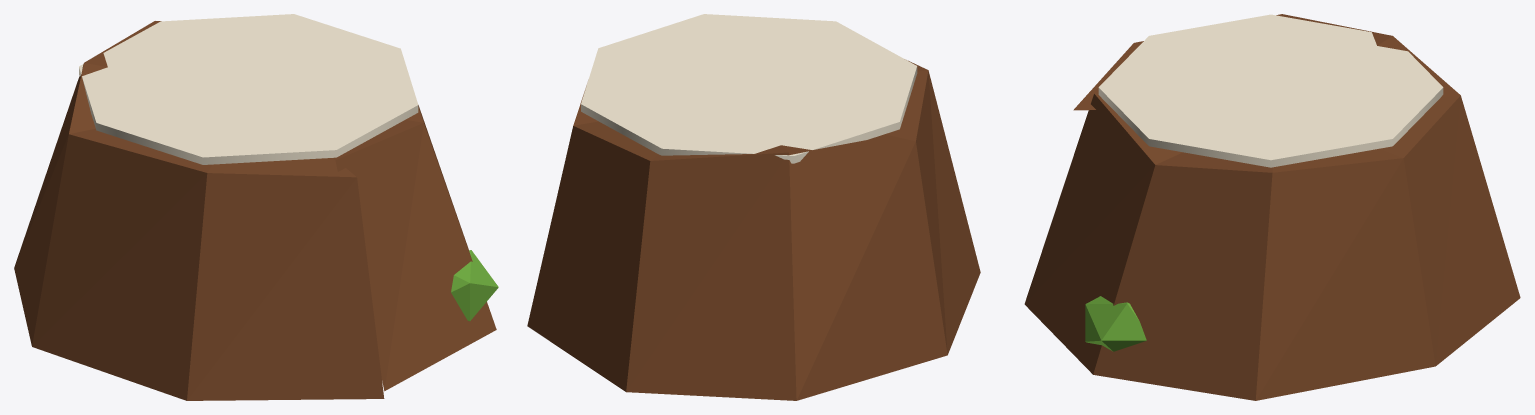
Rendered from tocon.glb.
The picture shows the model from 3 angles, left to right: view 1: azimuth 30°, elevation 25°; view 2: azimuth 150°, elevation 25°; view 3: azimuth 270°, elevation 25°; orthographic projection.
Parts seen in each view (by area): view 1: tronco, corte, musgo; view 2: tronco, corte; view 3: tronco, corte, musgo.
Boxes of the visible parts, box(x1,y1,x2,y2) form: tronco: box(14, 21, 496, 400); corte: box(79, 14, 418, 164); musgo: box(451, 250, 498, 321); tronco: box(527, 60, 980, 400); corte: box(581, 14, 917, 163); tronco: box(1024, 14, 1520, 400); corte: box(1098, 14, 1443, 167); musgo: box(1085, 296, 1146, 351).
Size of the model in its own units: 1.16 by 0.5764 by 1.25.
